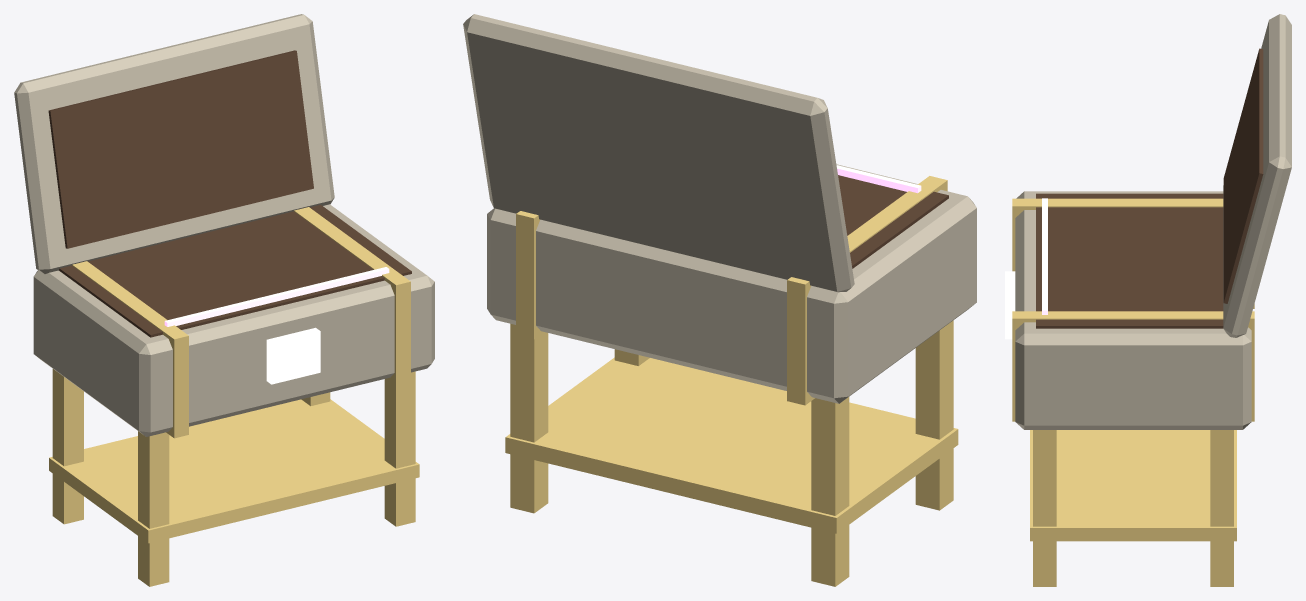
3 views of the same model, side by side, from view 1: azimuth 30°, elevation 25°; view 2: azimuth 150°, elevation 25°; view 3: azimuth 270°, elevation 25° (orthographic). The views are drawn at different scales.
Parts seen in each view (by area): view 1: lt_box_bb; view 2: lt_box_bb; view 3: lt_box_bb.
Boxes of the visible parts, box(x1,y1,x2,y2) form: lt_box_bb: box(14, 14, 434, 586); lt_box_bb: box(463, 14, 976, 586); lt_box_bb: box(1005, 14, 1291, 586).
Size of the model in its own units: 1.2 by 1.62 by 0.9712.
